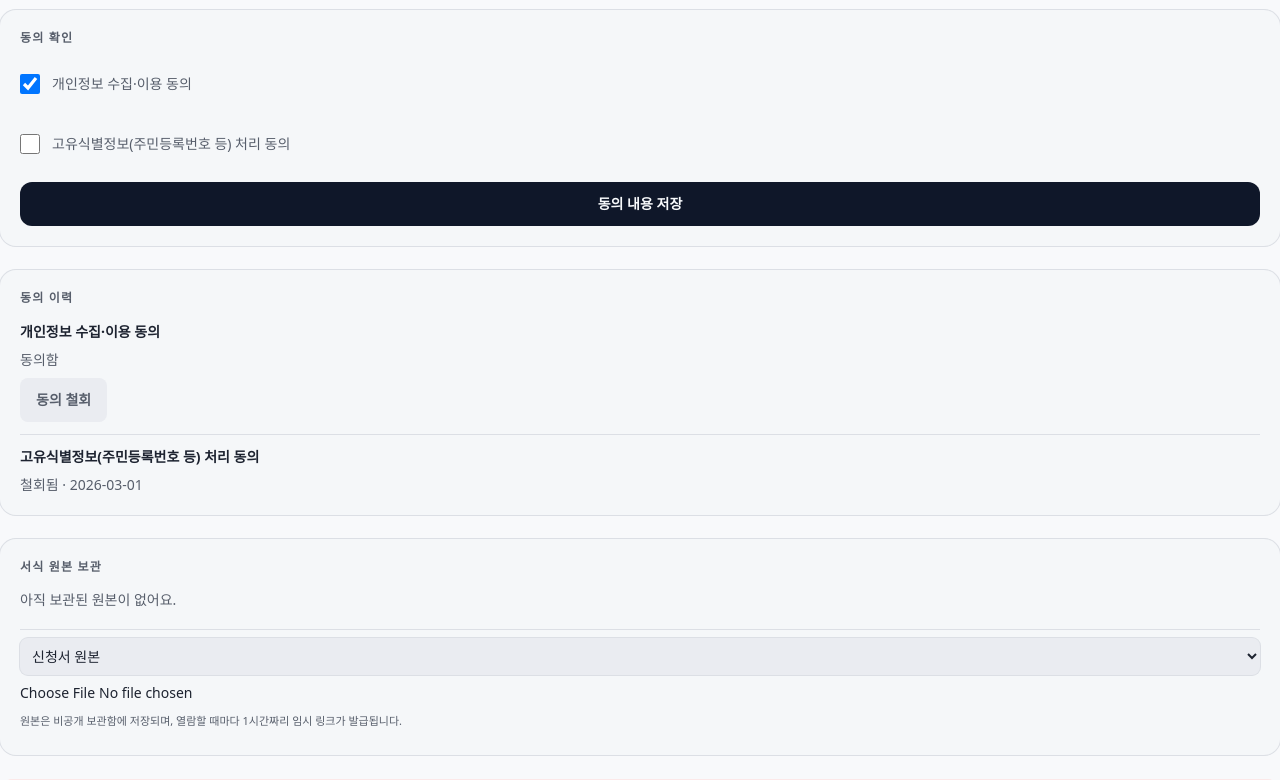
Test: ApplicationDetailClient — 동의 철회(withdrawConsent) › 그대로 두면 철회 안 함
(page scrolled)
Click the button with aria-label "개인정보 수집·이용 동의 철회": (64, 400) [20,378,107,422]
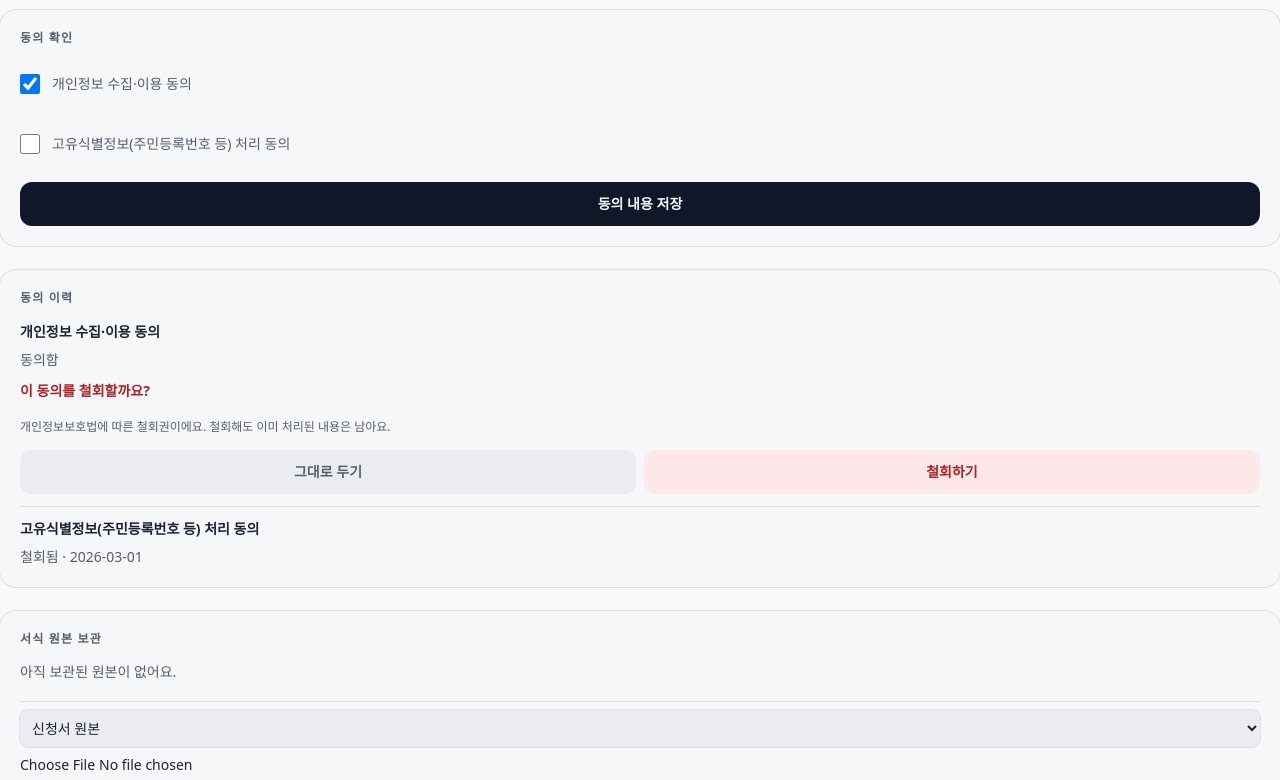
Click the button "그대로 두기": (328, 472) [20,450,636,494]
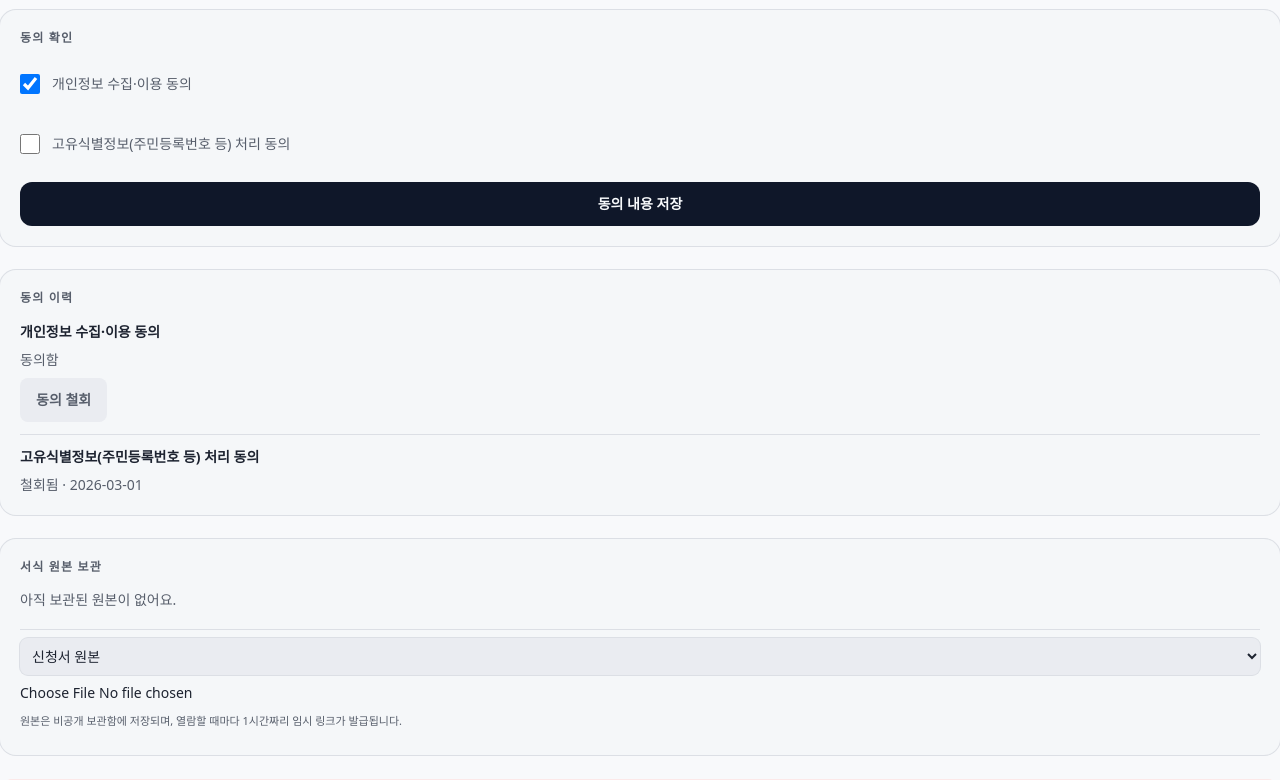
expect the text "철회할까요" is gone: met
